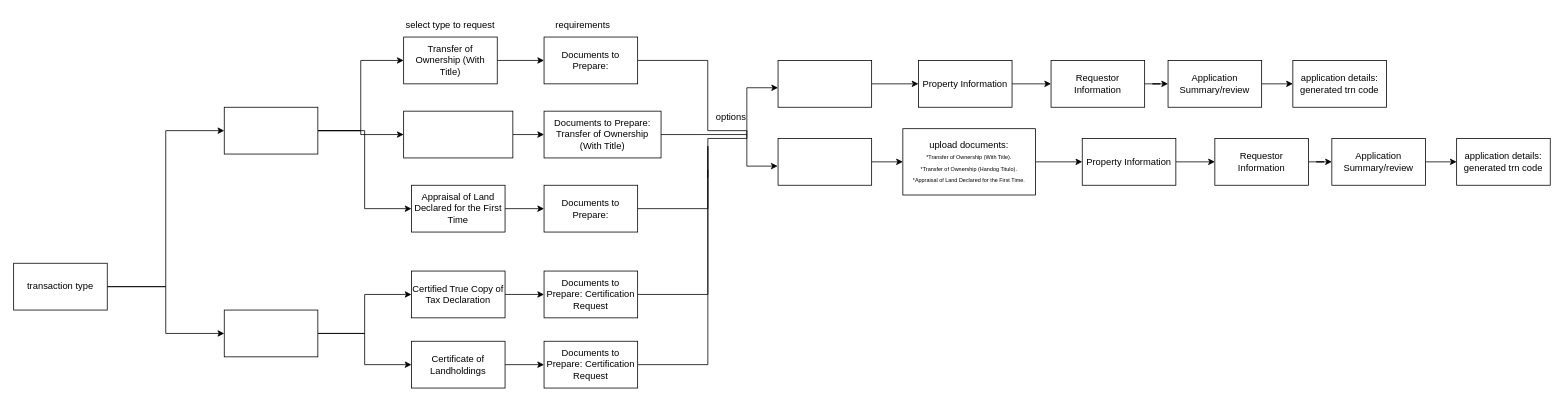
The diagram is 1564 pixels wide and 402 high, and some of its shapes have lost their labels. Each missing label, with the box of its shape:
assessment transaction: (223, 106, 318, 154)
certification request: (223, 309, 318, 357)
Online Submission: (777, 138, 872, 185)
Transfer of Ownership (Handog Titulo): (403, 110, 513, 158)
Walk-in Submission: (777, 60, 872, 107)
